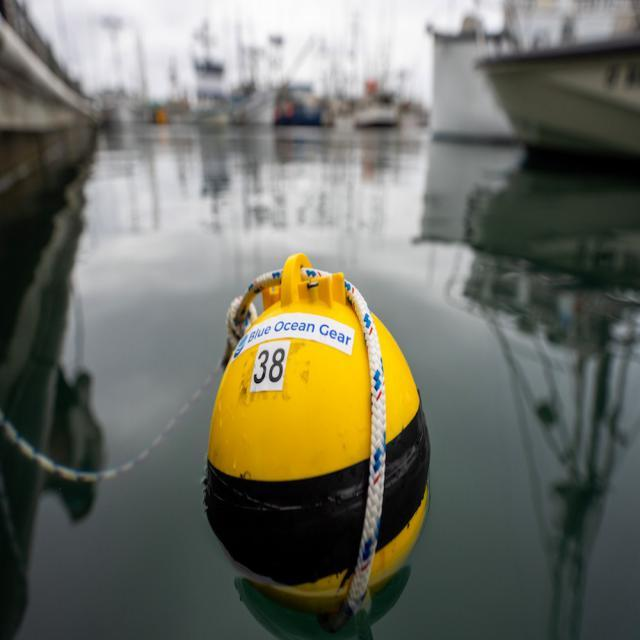ship: (478, 5, 640, 187)
